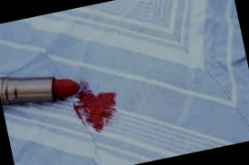lipstick: (65, 71, 122, 138)
